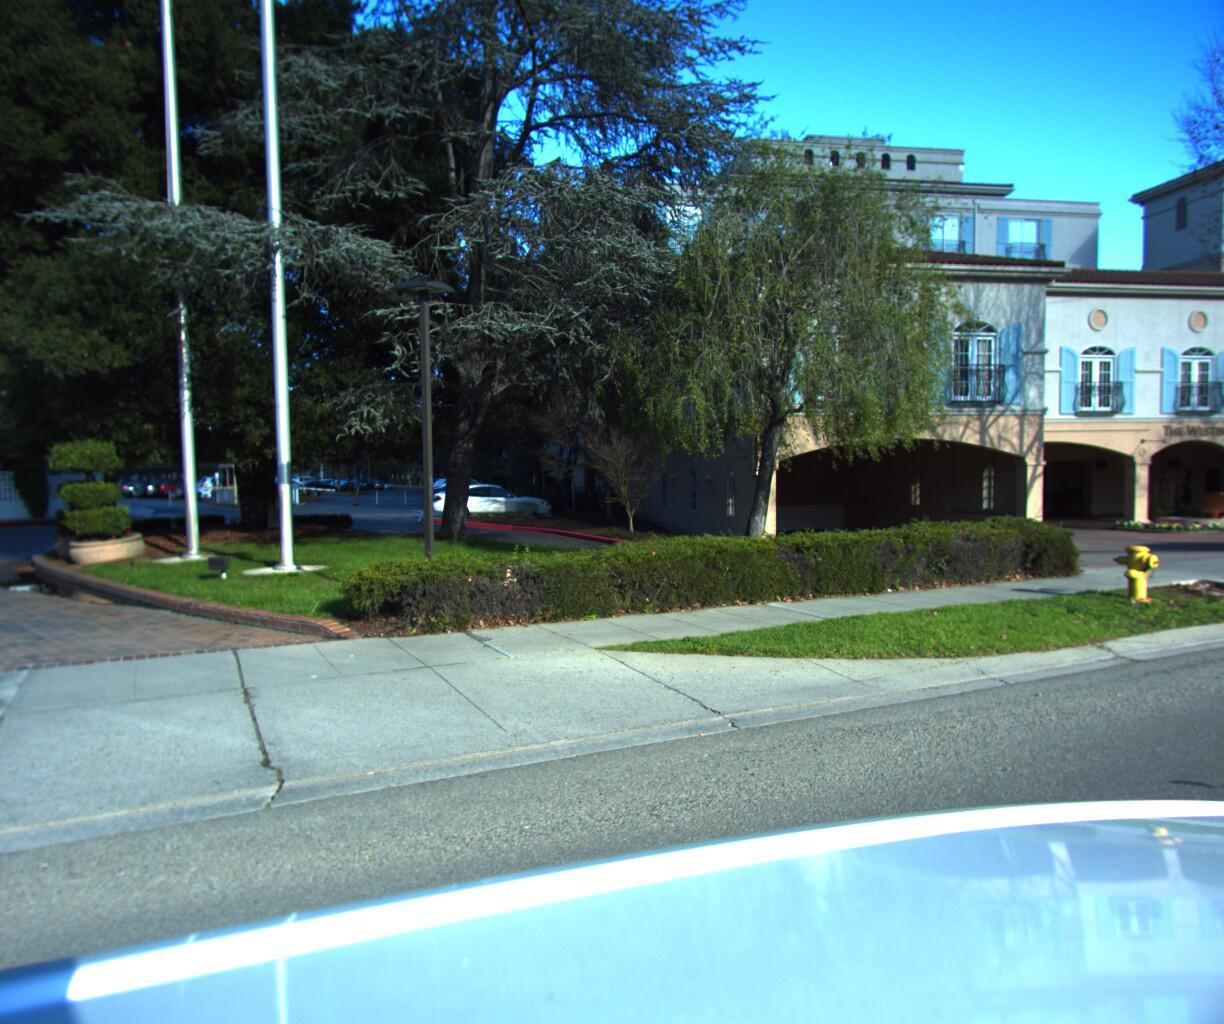car: (426, 475, 554, 516)
